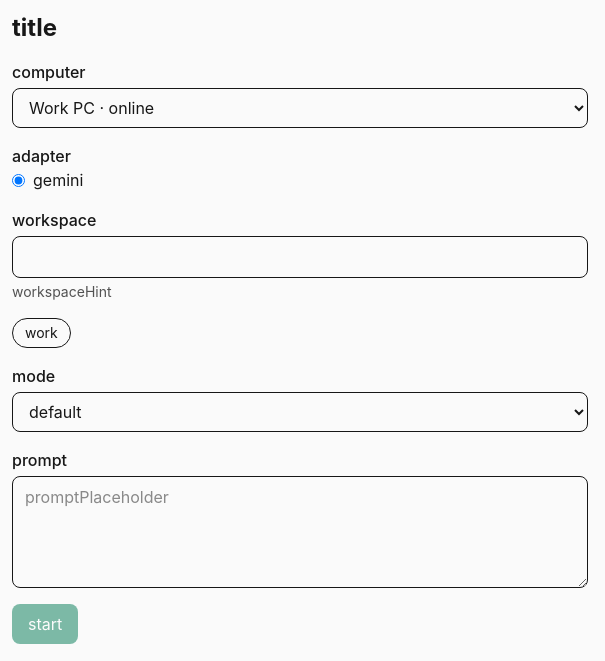
it: uses the selected computer's tools and folders even before its first session
Expected: the radio button labelled "gemini" is shown, top-left (12, 174), bottom-right (25, 186)
Step 1. Type "work" into the field labelled "workspace workspaceHint" → (300, 257), box top-left (12, 236), bottom-right (588, 278)
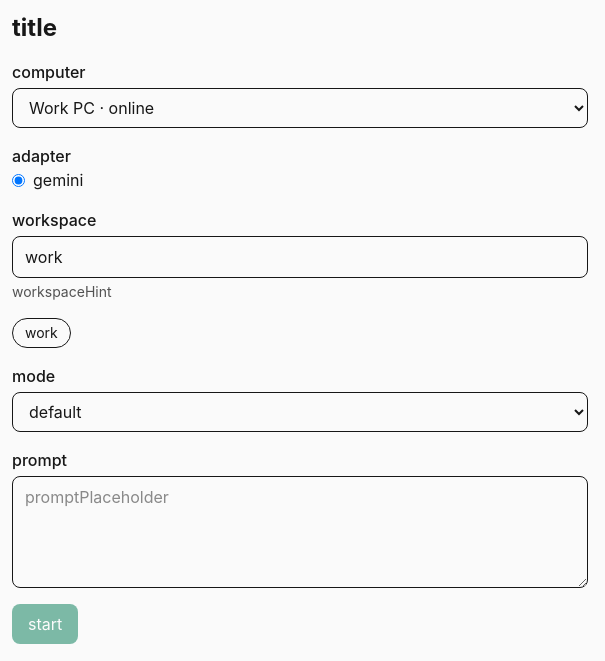
Step 2. Select "Home PC · online" in the dropdown labelled "computer" → (300, 108), box top-left (12, 88), bottom-right (588, 128)
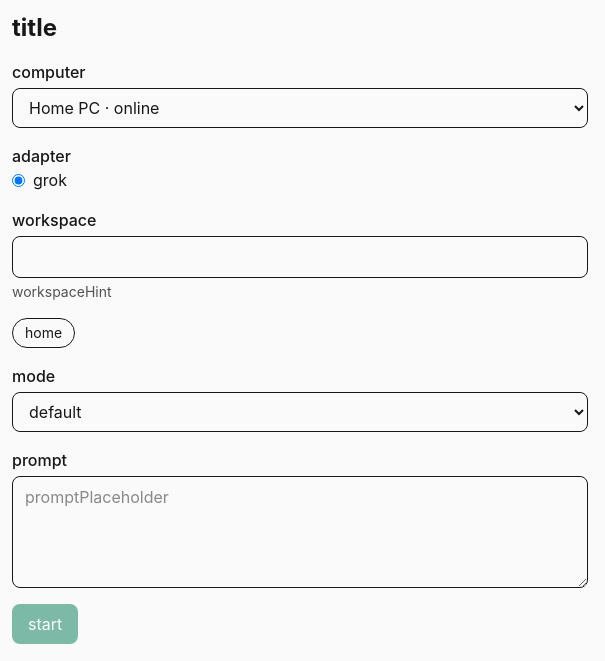
Expected: the radio button labelled "grok" is shown, top-left (12, 174), bottom-right (25, 186)
Now the label "gemini" is gone
Now the field labelled "workspace workspaceHint" is empty, box top-left (12, 236), bottom-right (588, 278)
